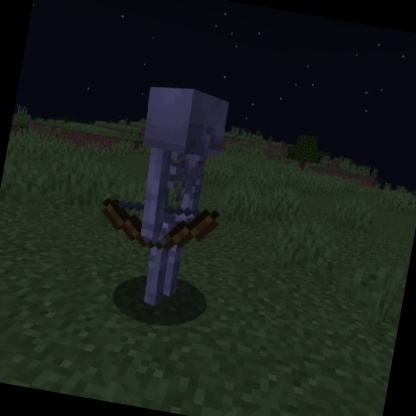skeleton: (83, 73, 246, 320)
